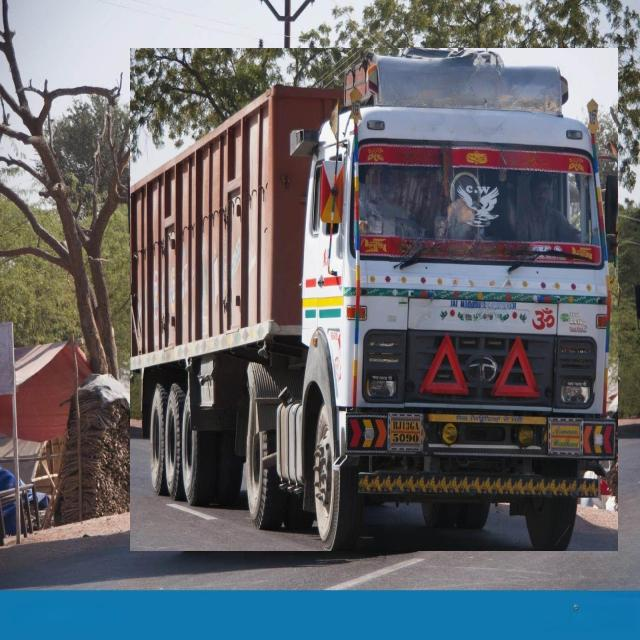truck: (130, 49, 618, 551)
